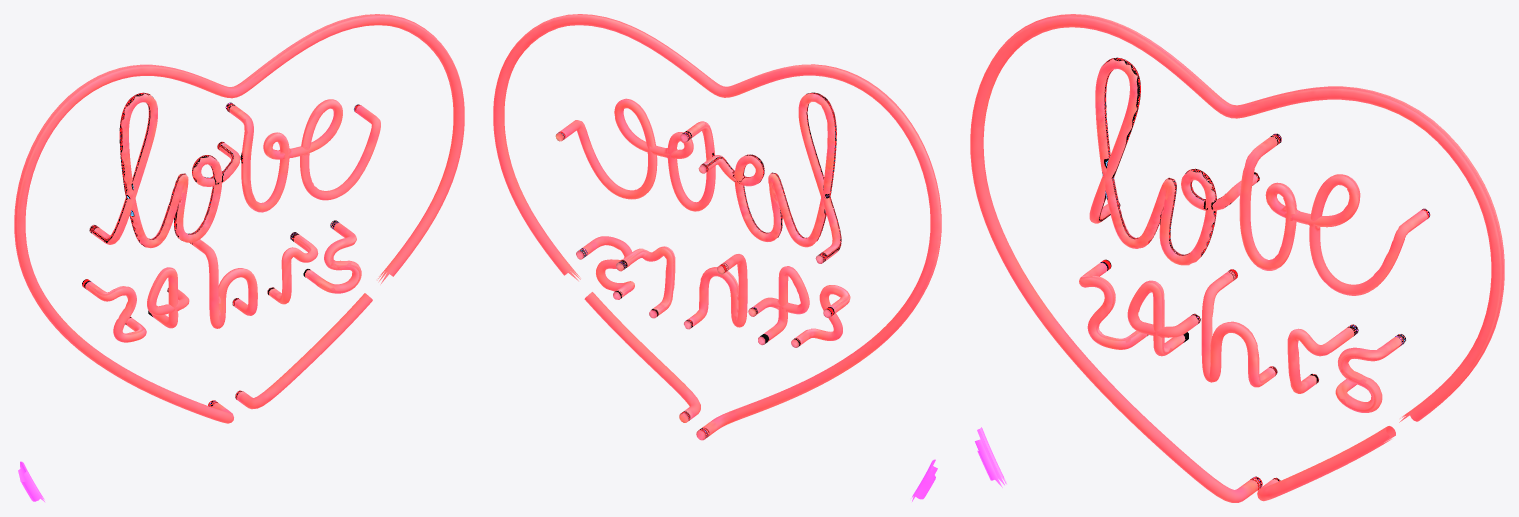
The model's file is vegas_love.glb.
3 renders of one model, left to right at view 1: azimuth 30°, elevation 25°; view 2: azimuth 150°, elevation 25°; view 3: azimuth 330°, elevation 25°, orthographic. The views are drawn at different scales.
Visible parts, largest first — view 1: vegas_love; view 2: vegas_love; view 3: vegas_love.
Part boxes in pixels (x1,y1,x2,y2): vegas_love: [14, 14, 464, 502]; vegas_love: [493, 14, 941, 501]; vegas_love: [970, 14, 1504, 502].
Bounding box in the file's own units: 2.4 × 2.12 × 0.2267.
1 material, 1 textured.
